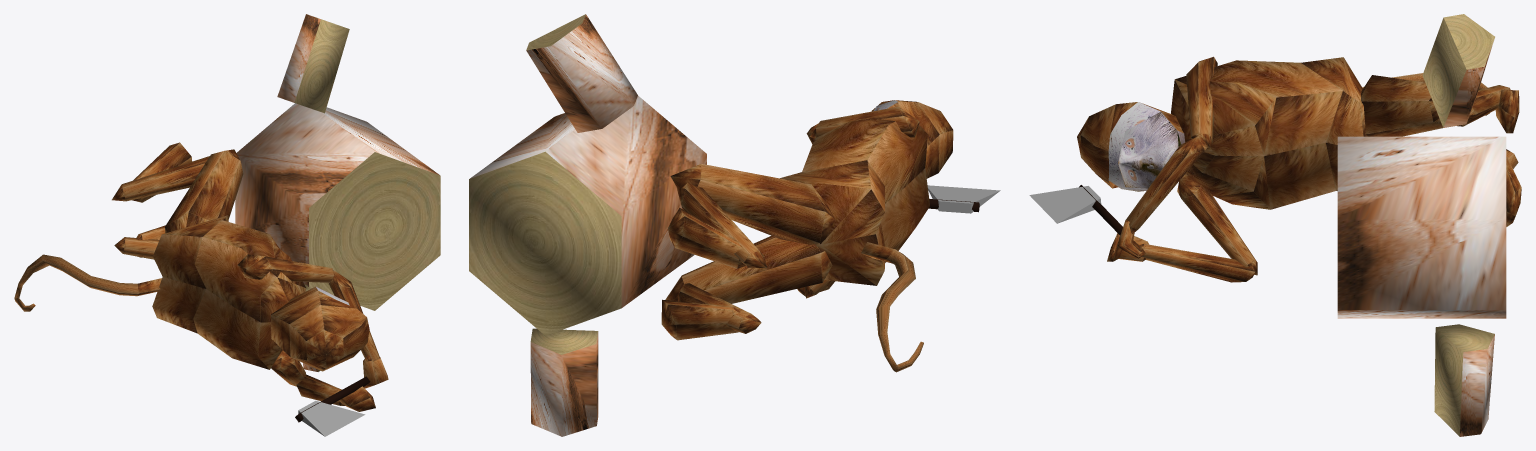
Rendered from monkey_000510.obj.
3 renders of one model, left to right at view 1: azimuth 30°, elevation 25°; view 2: azimuth 150°, elevation 25°; view 3: azimuth 270°, elevation 25°, orthographic. The views are drawn at different scales.
Parts seen in each view (by area): view 1: table_Cylinder.015, Cylinder_Cylinder.001, head.002_Sphere.002, log2_Cylinder.016, Cylinder.001_Cylinder.002, Cylinder.013_Cylinder, Cylinder.004_Cylinder.005, axe_Cylinder.014, Cylinder.008_Cylinder.009, Cylinder.006_Cylinder.007, Cylinder.009_Cylinder.011, Cylinder.010_Cylinder.012 (+4 smaller); view 2: table_Cylinder.015, Cylinder_Cylinder.001, log2_Cylinder.016, Cylinder.001_Cylinder.002, log_Cylinder.017, Cylinder.002_Cylinder.003, Cylinder.006_Cylinder.007, Cylinder.005_Cylinder.006, Cylinder.013_Cylinder, Cylinder.004_Cylinder.005, head.002_Sphere.002, axe_Cylinder.014 (+2 smaller); view 3: table_Cylinder.015, Cylinder_Cylinder.001, head.002_Sphere.002, log_Cylinder.017, log2_Cylinder.016, Cylinder.001_Cylinder.002, Cylinder.011_Cylinder.013, Cylinder.009_Cylinder.011, Cylinder.010_Cylinder.012, Cylinder.008_Cylinder.009, axe_Cylinder.014, Cylinder.006_Cylinder.007 (+4 smaller).
Part boxes in pixels (<box>): table_Cylinder.015: <box>235,103,440,310</box>; Cylinder_Cylinder.001: <box>152,215,306,369</box>; head.002_Sphere.002: <box>270,286,369,371</box>; log2_Cylinder.016: <box>277,14,349,113</box>; Cylinder.001_Cylinder.002: <box>164,149,243,232</box>; Cylinder.013_Cylinder: <box>14,254,161,311</box>; Cylinder.004_Cylinder.005: <box>112,156,209,201</box>; axe_Cylinder.014: <box>295,376,370,436</box>; Cylinder.008_Cylinder.009: <box>237,254,334,282</box>; Cylinder.006_Cylinder.007: <box>132,142,192,202</box>; Cylinder.009_Cylinder.011: <box>328,270,379,361</box>; Cylinder.010_Cylinder.012: <box>296,374,345,405</box>; table_Cylinder.015: <box>469,95,706,335</box>; Cylinder_Cylinder.001: <box>780,118,929,285</box>; log2_Cylinder.016: <box>526,14,637,132</box>; Cylinder.001_Cylinder.002: <box>670,163,834,244</box>; log_Cylinder.017: <box>530,328,598,436</box>; Cylinder.002_Cylinder.003: <box>665,235,832,303</box>; Cylinder.006_Cylinder.007: <box>668,207,745,268</box>; Cylinder.005_Cylinder.006: <box>661,299,740,340</box>; Cylinder.013_Cylinder: <box>861,242,923,372</box>; Cylinder.004_Cylinder.005: <box>676,183,767,267</box>; head.002_Sphere.002: <box>871,100,953,178</box>; axe_Cylinder.014: <box>927,185,1000,213</box>; table_Cylinder.015: <box>1337,136,1506,318</box>; Cylinder_Cylinder.001: <box>1171,57,1367,209</box>; head.002_Sphere.002: <box>1077,102,1185,191</box>; log_Cylinder.017: <box>1434,324,1494,436</box>; log2_Cylinder.016: <box>1422,14,1494,127</box>; Cylinder.001_Cylinder.002: <box>1361,75,1442,136</box>; Cylinder.011_Cylinder.013: <box>1177,177,1257,275</box>; Cylinder.009_Cylinder.011: <box>1125,136,1207,234</box>; Cylinder.010_Cylinder.012: <box>1139,244,1255,282</box>; Cylinder.008_Cylinder.009: <box>1186,56,1217,147</box>; axe_Cylinder.014: <box>1029,185,1122,235</box>; Cylinder.006_Cylinder.007: <box>1495,89,1519,133</box>.
Size of the model in its own units: 1.98 by 1.83 by 2.03.
